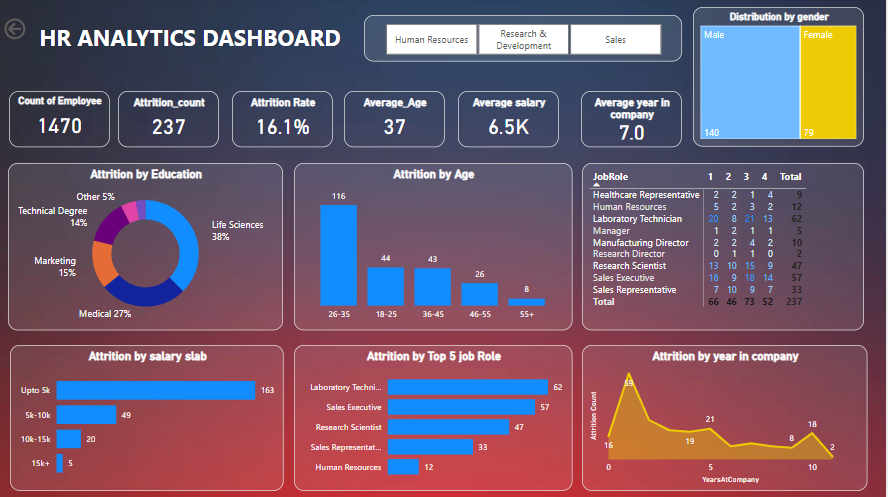

What the dashboard file says about the page in this screenshot:
{"tool":"powerbi","page":{"name":"Page 1","canvas":[1280,720],"ordinal":0},"visuals":[{"type":"card","title":"Count of Employee","fields":{"Values":["CountNonNull(HR_Analytics.EmpID)"]},"box":[16.5,134.4,145,80.6],"z":0},{"type":"card","title":"Attrition_count ","fields":{"Values":["Sum(HR_Analytics.Attrition_count)"]},"box":[173.5,134.4,145.4,80.6],"z":1000},{"type":"card","title":"Average salary","fields":{"Values":["Avg(HR_Analytics.MonthlyIncome)"]},"box":[663.1,134.4,145.4,80.6],"z":2000},{"type":"card","title":"Average_Age","fields":{"Values":["Avg(HR_Analytics.Age)"]},"box":[498.9,134.4,145.4,80.6],"z":3000},{"type":"card","title":"Attrition Rate","fields":{"Values":["HR_Analytics.Attrition_Rate"]},"box":[337.6,134.4,145.4,80.6],"z":4000},{"type":"card","title":"Average year in company","fields":{"Values":["Avg(HR_Analytics.YearsAtCompany)"]},"box":[840.2,134.4,145.4,80.6],"z":5000},{"type":"donutChart","title":"Attrition by Education","fields":{"Category":["HR_Analytics.EducationField"],"Y":["Sum(HR_Analytics.Attrition_count)"]},"box":[15,238,396.2,241.4],"z":6000},{"type":"columnChart","title":"Attrition by Age","fields":{"Category":["HR_Analytics.AgeGroup"],"Y":["Sum(HR_Analytics.Attrition_count)"]},"box":[426.1,238,401.1,241.4],"z":7000},{"type":"pivotTable","fields":{"Rows":["HR_Analytics.JobRole"],"Columns":["HR_Analytics.JobSatisfaction"],"Values":["Sum(HR_Analytics.Attrition_count)"]},"box":[840.6,238,406.1,241.4],"z":8000},{"type":"actionButton","box":[5,25,100,40],"z":9000},{"type":"barChart","title":"Attrition by salary slab","fields":{"Category":["HR_Analytics.SalarySlab"],"Y":["Sum(HR_Analytics.Attrition_count)"]},"box":[16.6,499.3,394.5,209.7],"z":10000},{"type":"barChart","title":"Attrition by Top 5 job Role","fields":{"Category":["HR_Analytics.JobRole"],"Y":["Sum(HR_Analytics.Attrition_count)"]},"box":[426.1,499.3,401.1,209.7],"z":11000},{"type":"areaChart","title":"Attrition by year in company","fields":{"Category":["HR_Analytics.YearsAtCompany"],"Y":["Sum(HR_Analytics.Attrition_count)"]},"box":[840.6,499.3,411.1,209.7],"z":12000},{"type":"treemap","title":"Distribution by gender","fields":{"Group":["HR_Analytics.Gender"],"Values":["Sum(HR_Analytics.Attrition_count)"]},"box":[1000.4,13.3,246.3,201.4],"z":13000},{"type":"slicer","fields":{"Values":["HR_Analytics.Department"]},"box":[527.6,25,457.7,66.6],"z":14000},{"type":"textbox","box":[54.9,28.3,462.7,71.6],"z":15000}]}

Visuals, with their boxes in screenshot pixels (x1, y1, x2, y2), scaled from the page's 1280x720 canvas onto the 888x497 screenshot:
"Count of Employee" card: region(11, 93, 112, 148)
"Attrition_count " card: region(120, 93, 221, 148)
"Average salary" card: region(460, 93, 561, 148)
"Average_Age" card: region(346, 93, 447, 148)
"Attrition Rate" card: region(234, 93, 335, 148)
"Average year in company" card: region(583, 93, 684, 148)
"Attrition by Education" donutChart: region(10, 164, 285, 331)
"Attrition by Age" columnChart: region(296, 164, 574, 331)
pivotTable - HR_Analytics.JobRole x HR_Analytics.JobSatisfaction: region(583, 164, 865, 331)
actionButton: region(3, 17, 73, 45)
"Attrition by salary slab" barChart: region(12, 345, 285, 489)
"Attrition by Top 5 job Role" barChart: region(296, 345, 574, 489)
"Attrition by year in company" areaChart: region(583, 345, 868, 489)
"Distribution by gender" treemap: region(694, 9, 865, 148)
slicer - HR_Analytics.Department: region(366, 17, 684, 63)
textbox: region(38, 20, 359, 69)
